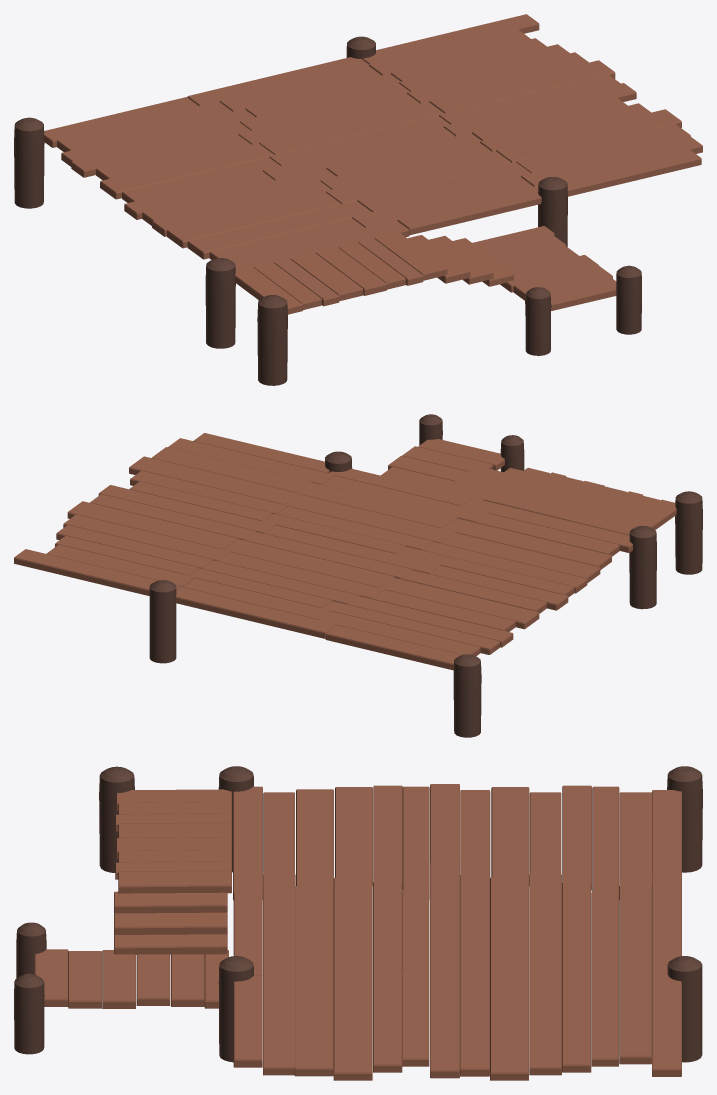
Rendered from PROP_Ponton 2.fbx.
3 renders of one model, top to bottom at view 1: azimuth 30°, elevation 25°; view 2: azimuth 150°, elevation 25°; view 3: azimuth 270°, elevation 25°, orthographic. The views are drawn at different scales.
Visible parts, largest first — view 1: Planche_Toit_253, Planche_Toit_284, Planche_Toit_279, Planche_Toit_242, Planche_Toit_252, Planche_Toit_240, Planche_Toit_251, PONT_Poto_06, PONT_Poto_04, PONT_Poto_05, Planche_Toit_258, Planche_Toit_254 (+54 smaller); view 2: Planche_Toit_227, Planche_Toit_279, Planche_Toit_284, Planche_Toit_253, Planche_Toit_289, Planche_Toit_252, Planche_Toit_242, Planche_Toit_240, Planche_Toit_210, Planche_Toit_251, Planche_Toit_254, PONT_Poto_04 (+50 smaller); view 3: Planche_Toit_279, Planche_Toit_284, Planche_Toit_278, Planche_Toit_252, Planche_Toit_242, Planche_Toit_253, Planche_Toit_240, Planche_Toit_254, Planche_Toit_285, Planche_Toit_277, Planche_Toit_251, Planche_Toit_282 (+54 smaller).
Boxes of the visible parts, x1=… form: Planche_Toit_253: x1=187, y1=200, x2=371, y2=259; Planche_Toit_284: x1=429, y1=60, x2=615, y2=113; Planche_Toit_279: x1=496, y1=109, x2=681, y2=162; Planche_Toit_242: x1=259, y1=102, x2=443, y2=154; Planche_Toit_252: x1=326, y1=150, x2=511, y2=204; Planche_Toit_240: x1=100, y1=143, x2=273, y2=199; Planche_Toit_251: x1=167, y1=192, x2=340, y2=248; PONT_Poto_06: x1=257, y1=295, x2=287, y2=385; PONT_Poto_04: x1=14, y1=117, x2=44, y2=208; PONT_Poto_05: x1=205, y1=258, x2=235, y2=348; Planche_Toit_258: x1=397, y1=186, x2=541, y2=235; Planche_Toit_254: x1=357, y1=162, x2=530, y2=211; Planche_Toit_227: x1=175, y1=587, x2=336, y2=638; Planche_Toit_279: x1=129, y1=456, x2=299, y2=504; Planche_Toit_284: x1=67, y1=501, x2=237, y2=549; Planche_Toit_253: x1=443, y1=518, x2=611, y2=569; Planche_Toit_289: x1=14, y1=549, x2=180, y2=595; Planche_Toit_252: x1=286, y1=494, x2=455, y2=543; Planche_Toit_242: x1=224, y1=539, x2=394, y2=587; Planche_Toit_240: x1=380, y1=577, x2=539, y2=629; Planche_Toit_210: x1=325, y1=625, x2=461, y2=670; Planche_Toit_251: x1=441, y1=533, x2=600, y2=583; Planche_Toit_254: x1=298, y1=482, x2=456, y2=528; PONT_Poto_04: x1=453, y1=654, x2=481, y2=737; Planche_Toit_279: x1=333, y1=974, x2=372, y2=1080; Planche_Toit_284: x1=490, y1=975, x2=528, y2=1080; Planche_Toit_278: x1=294, y1=976, x2=333, y2=1076; Planche_Toit_252: x1=333, y1=877, x2=372, y2=975; Planche_Toit_242: x1=490, y1=877, x2=528, y2=975; Planche_Toit_253: x1=296, y1=789, x2=333, y2=886; Planche_Toit_240: x1=491, y1=787, x2=529, y2=885; Planche_Toit_254: x1=295, y1=886, x2=333, y2=977; Planche_Toit_285: x1=529, y1=970, x2=561, y2=1075; Planche_Toit_277: x1=263, y1=970, x2=295, y2=1075; Planche_Toit_251: x1=335, y1=787, x2=372, y2=885; Planche_Toit_282: x1=430, y1=966, x2=459, y2=1078.
Bounding box in the file's own units: 2151 × 330 × 2122.
